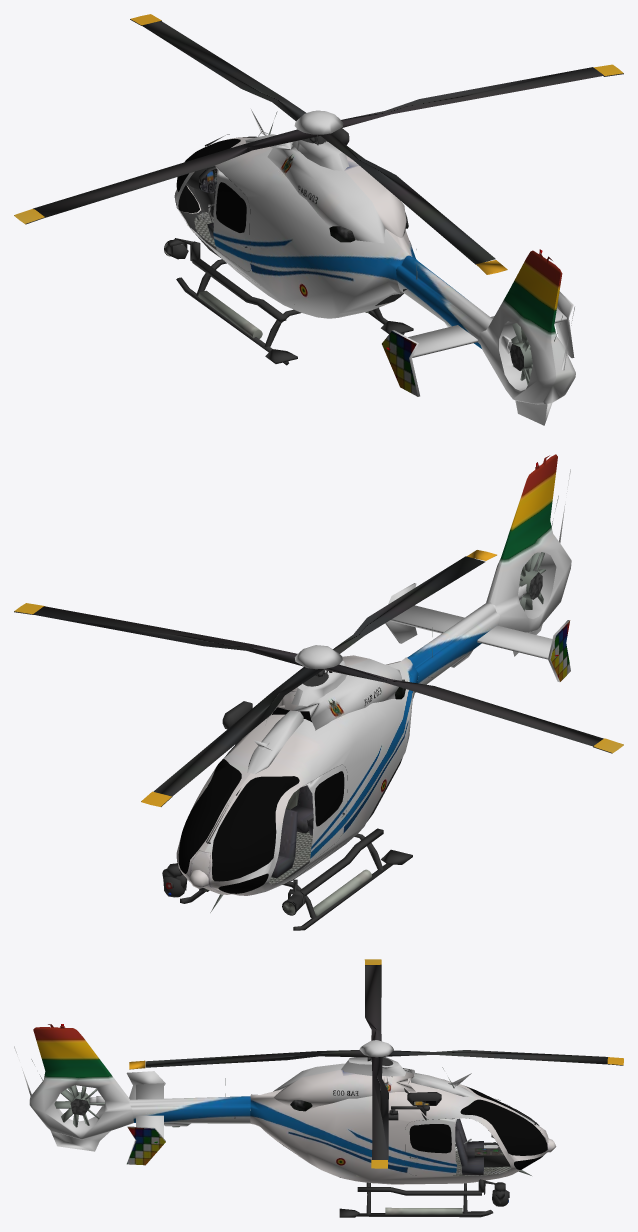
File: v_heli.glb
The picture shows the model from 3 angles, top to bottom: view 1: azimuth 30°, elevation 25°; view 2: azimuth 150°, elevation 25°; view 3: azimuth 270°, elevation 25°; orthographic projection. The views are drawn at different scales.
Visible parts, largest first — view 1: chassis, static_rotor; view 2: chassis, static_rotor; view 3: chassis, static_rotor, static_rotor2.
Boxes of the visible parts, x1,y1,x2,y2 form: chassis: (164,109,575,425); static_rotor: (14,14,623,274); chassis: (162,454,571,930); static_rotor: (14,550,623,806); chassis: (14,1024,556,1217); static_rotor: (129,959,623,1168); static_rotor2: (54,1085,104,1127).
Size of the model in its own units: 10.17 by 3.94 by 12.57.
3 materials, 2 textured.
